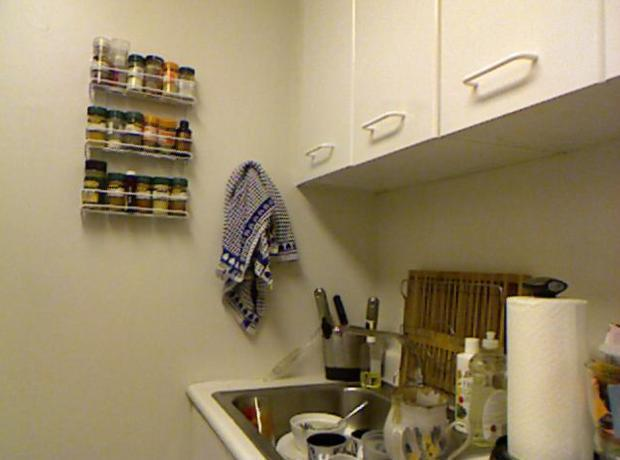Lavaplatos: (202, 298, 448, 453)
